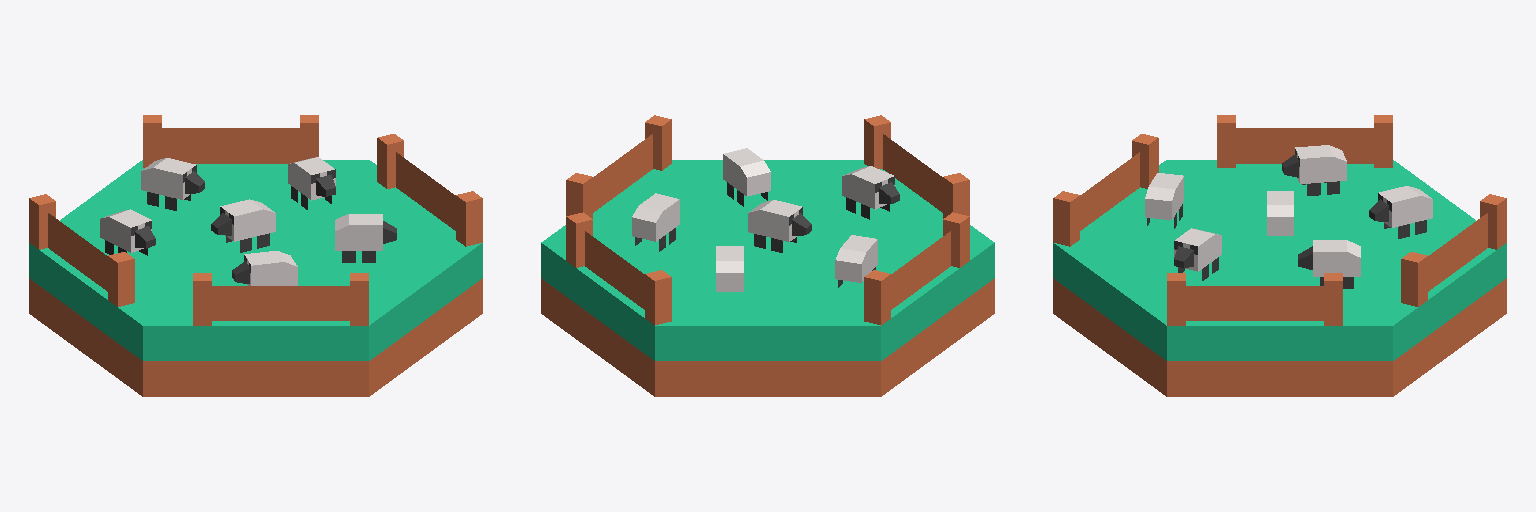
File: building_sheep.obj
3 renders of one model, left to right at view 1: azimuth 30°, elevation 25°; view 2: azimuth 150°, elevation 25°; view 3: azimuth 270°, elevation 25°, orthographic.
Parts seen in each view (by area): view 1: building_sheep, fence, sheep; view 2: building_sheep, fence, sheep; view 3: building_sheep, fence, sheep.
Boxes of the visible parts, x1,y1,x2,y2 form: building_sheep: [29, 160, 482, 396]; fence: [29, 115, 482, 325]; sheep: [100, 157, 396, 285]; building_sheep: [541, 160, 994, 396]; fence: [566, 115, 969, 325]; sheep: [632, 148, 899, 291]; building_sheep: [1053, 160, 1506, 396]; fence: [1053, 115, 1506, 325]; sheep: [1145, 145, 1432, 288].
Size of the model in its own units: 1 by 0.325 by 1.15.